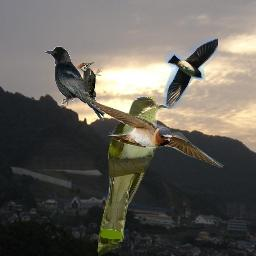Crow: (44, 46, 105, 121)
Cuckoo: (97, 96, 168, 256)
Swallow: (81, 94, 224, 168), (164, 37, 218, 109)
Woodpecker: (77, 62, 102, 105)
